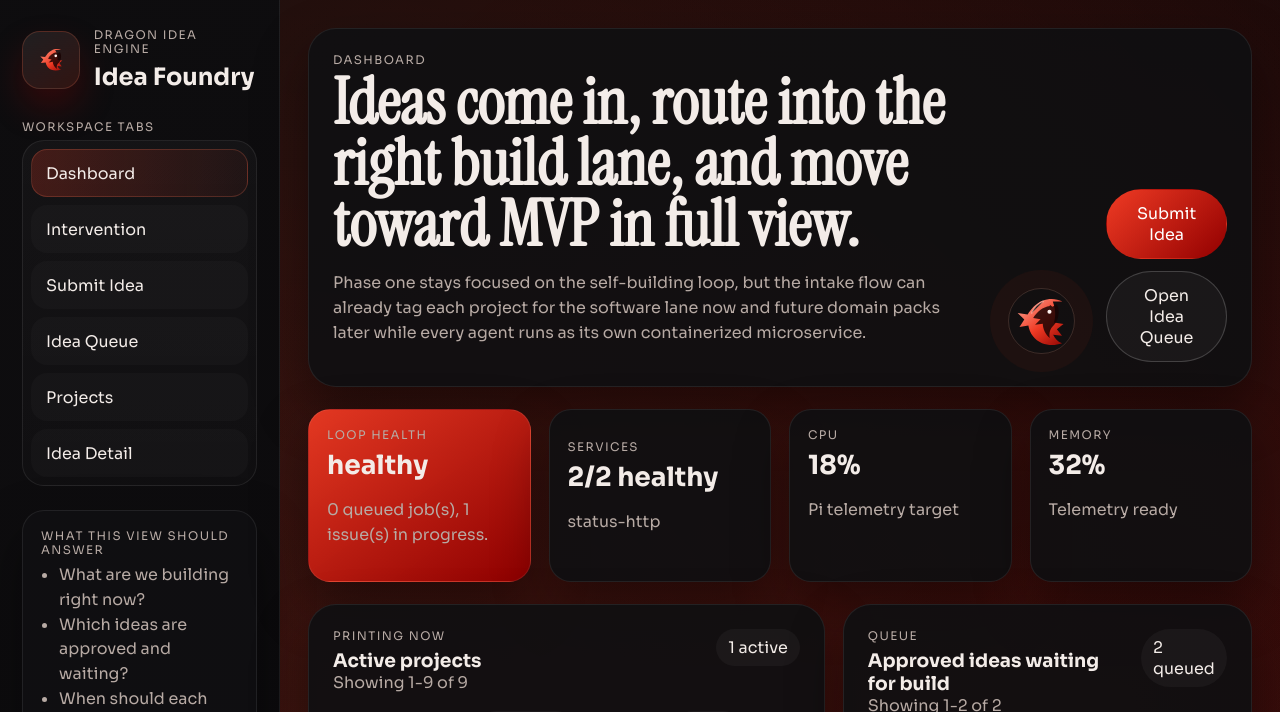
Scenario: React dashboard › queues selected quarantined issues as a group from the intervention tab
Expected: the heading "Ideas come in, route into the right build lane" is shown, [333,61,944,266]
Click the button "Loop health healthy 0 queued job(s), 1 issue(s) in progress.".
click(419, 496)  # box [308,409,530,582]
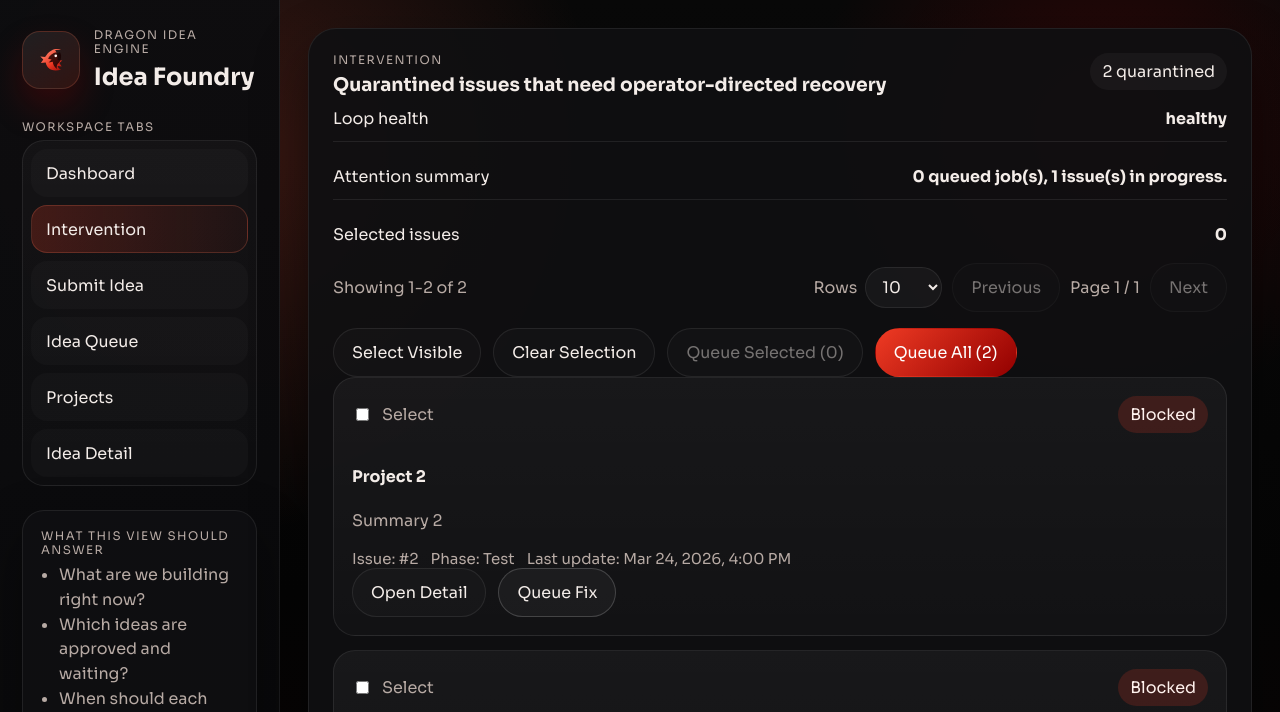
Expected: the heading "Quarantined issues that need operator-directed recovery" is shown, [333,73,886,96]
Click the checkbox named "Select issue 2".
click(362, 414)  # box [356,408,369,421]
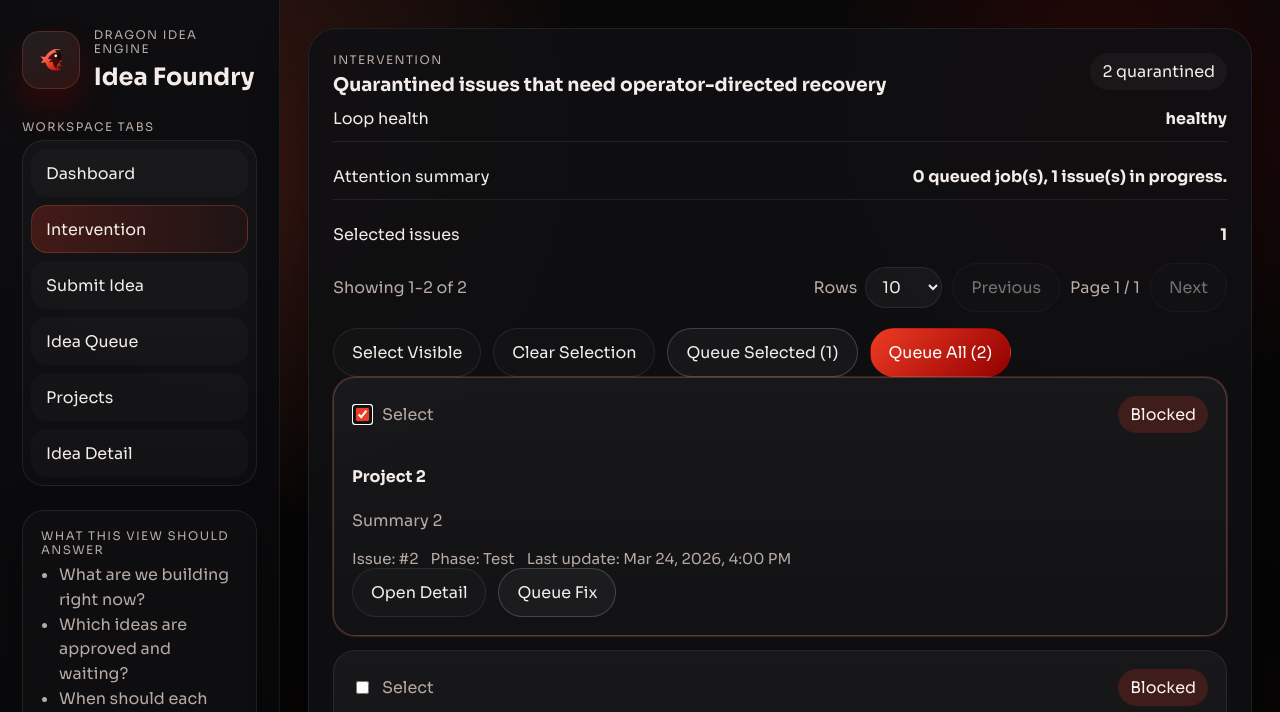
Click the checkbox named "Select issue 5".
click(362, 688)  # box [356,681,369,694]
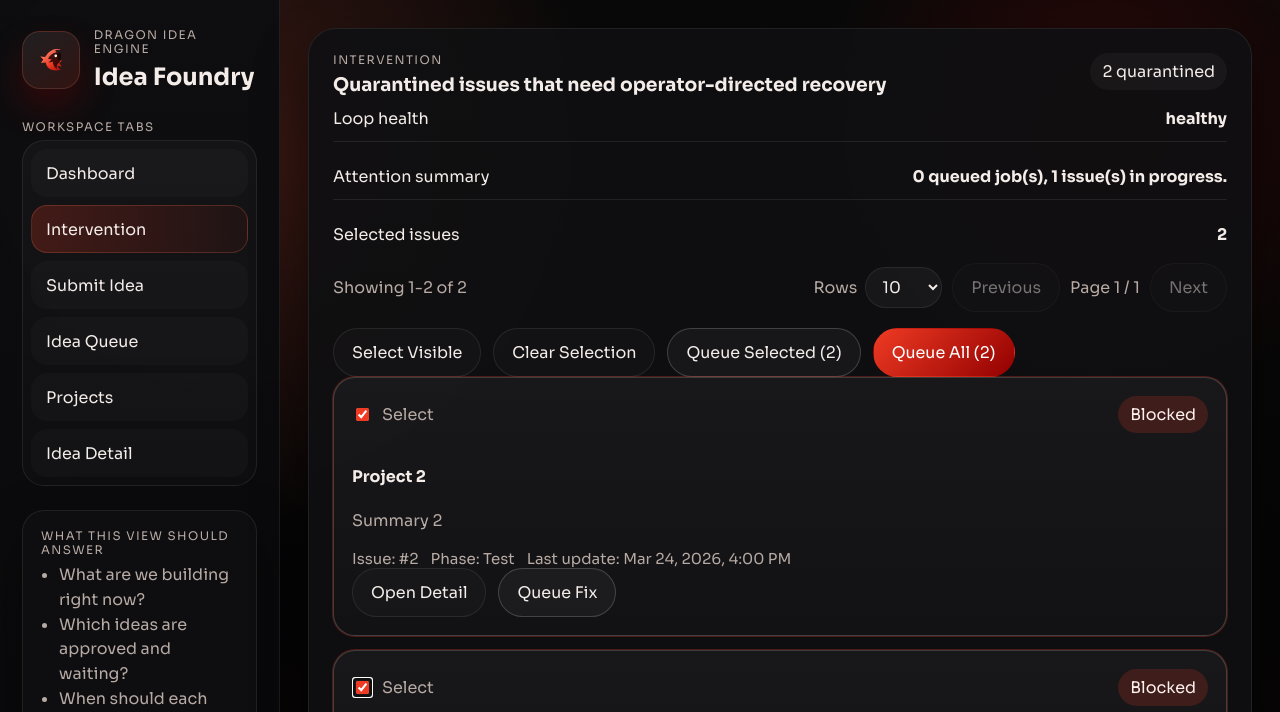
Click the button "Queue Selected (2)".
click(764, 352)  # box [668,328,861,377]
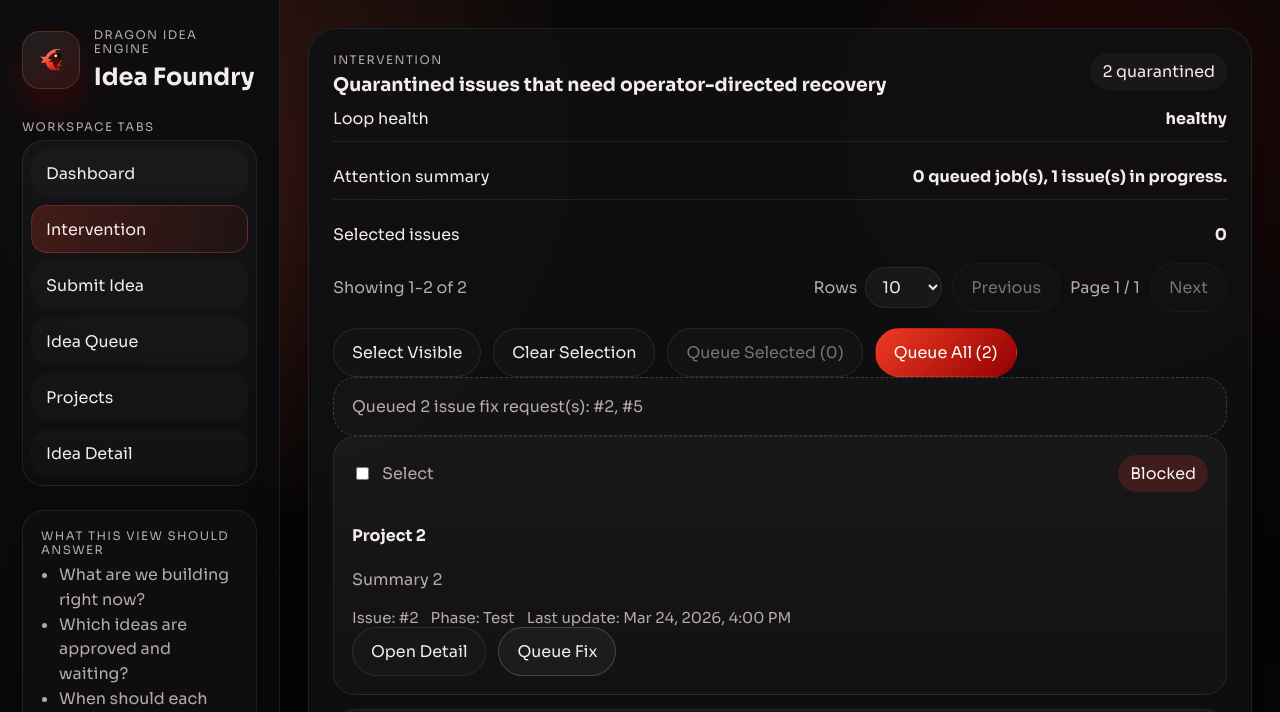
Expected: the text "Queued 2 issue fix request(s): #2, #5" is shown, [333,377,1227,436]
